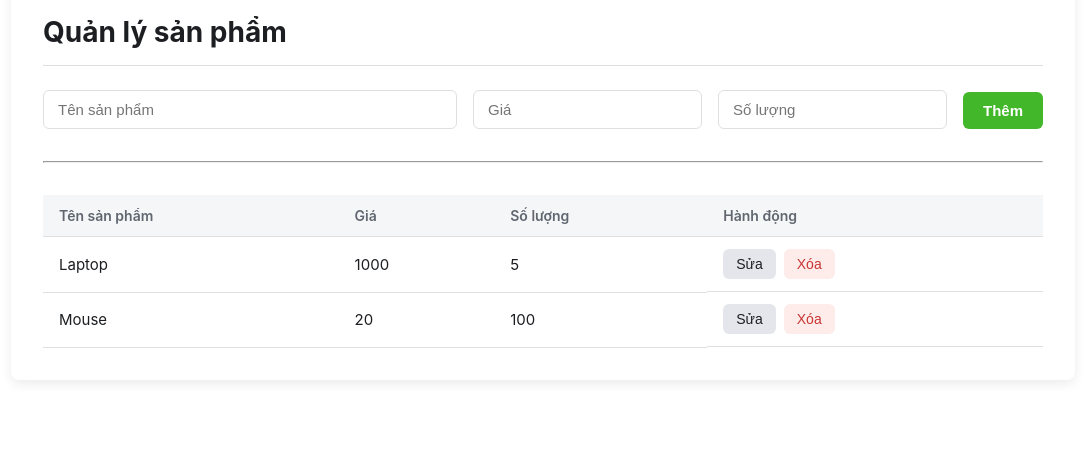
Test: ProductPage - Mock Component Tests › cập nhật sản phẩm thành công
Expected: the text "Laptop" is shown, [43, 236, 339, 292]
Click the button with test id "btn-edit-1": click(750, 264) [723, 249, 776, 279]
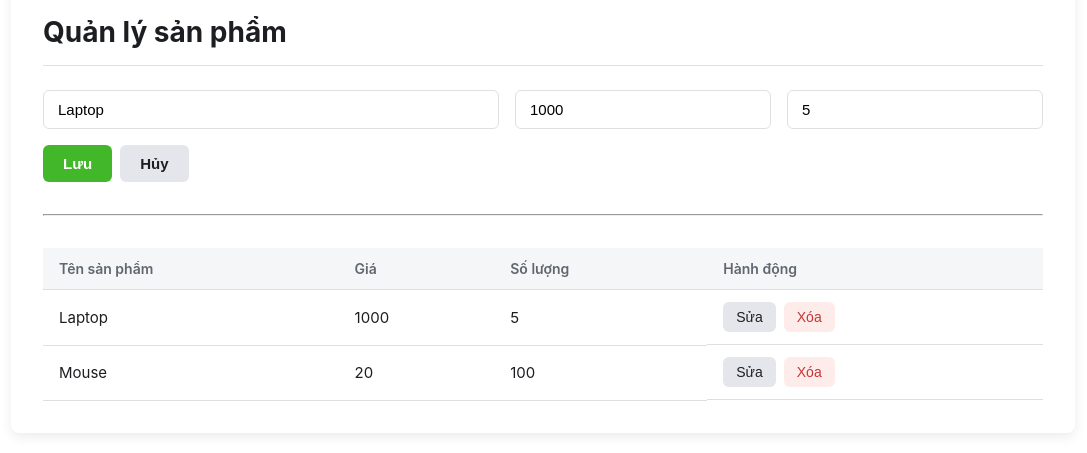
Replace the text in the field with test id "product-name-input" with "Laptop Pro": (271, 110) [43, 90, 499, 129]
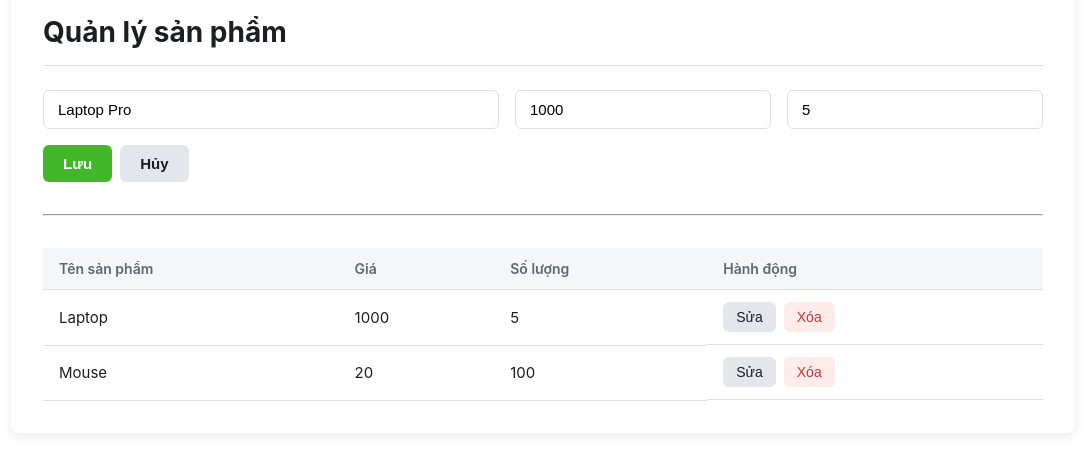
Click the button "Lưu": click(78, 164) [43, 145, 112, 182]
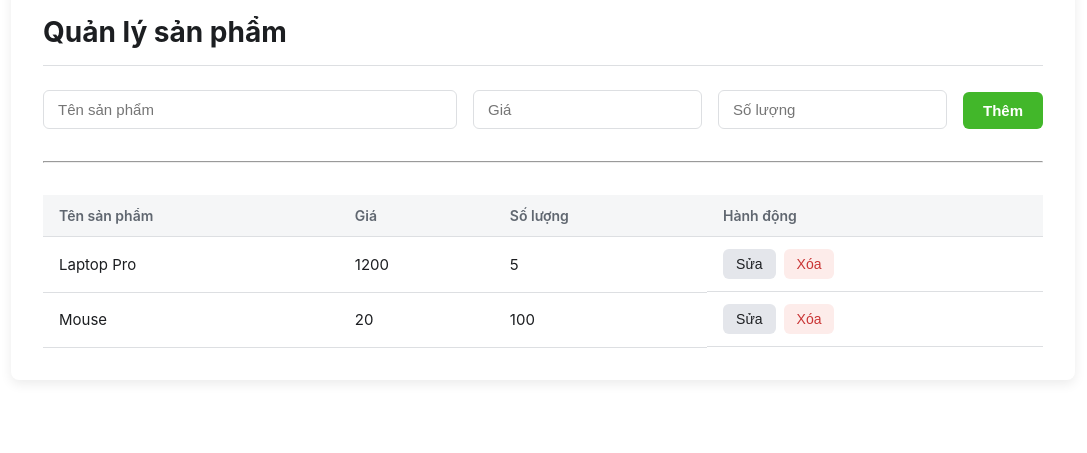
Now the text "Laptop Pro" is shown, box [43, 236, 339, 292]
